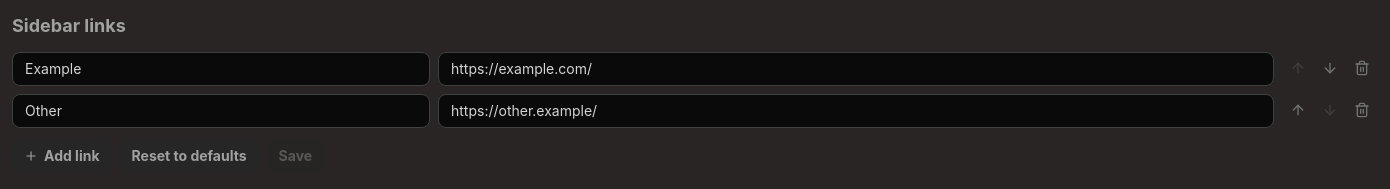
Test: LinksEditor › saves reordered links
expect the button "Save" is disabled: met, box [267,140,324,172]
Click the button named "Move Other up" at point(1298, 110), box [1282,94,1314,126]
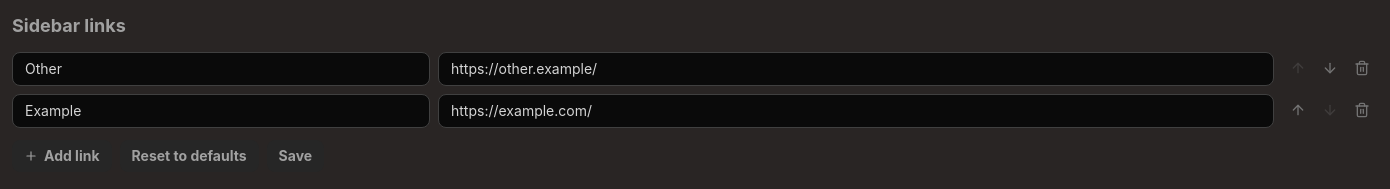
Click the button "Save" at point(295, 156), box [267,140,324,172]
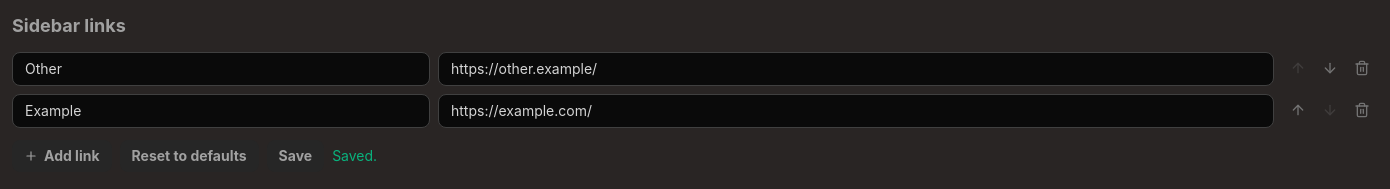
expect the text "Saved." is shown: met, box [332,146,377,166]
